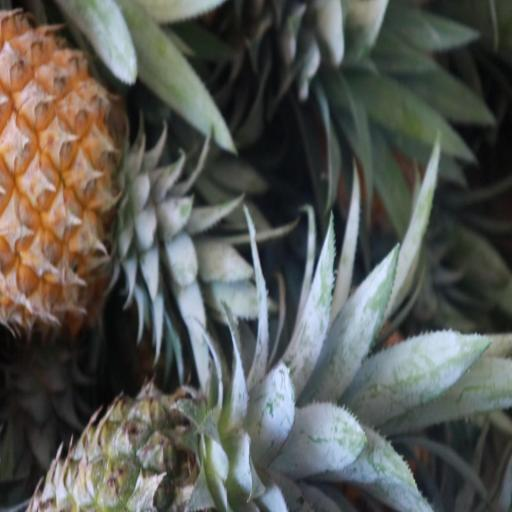Pineapple - v8 v1: (0, 18, 154, 330)
